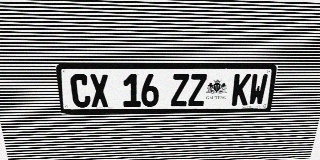1: (122, 74, 141, 107)
6: (141, 74, 159, 107)
C: (70, 74, 91, 108)
K: (231, 74, 251, 105)
W: (248, 74, 268, 105)
X: (89, 74, 109, 107)
Z: (188, 74, 207, 106), (171, 74, 189, 106)
